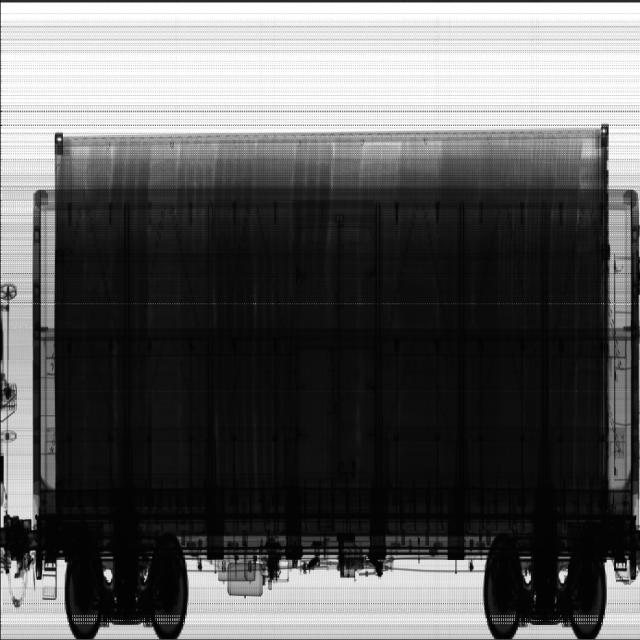clothes: (61, 140, 600, 518)
